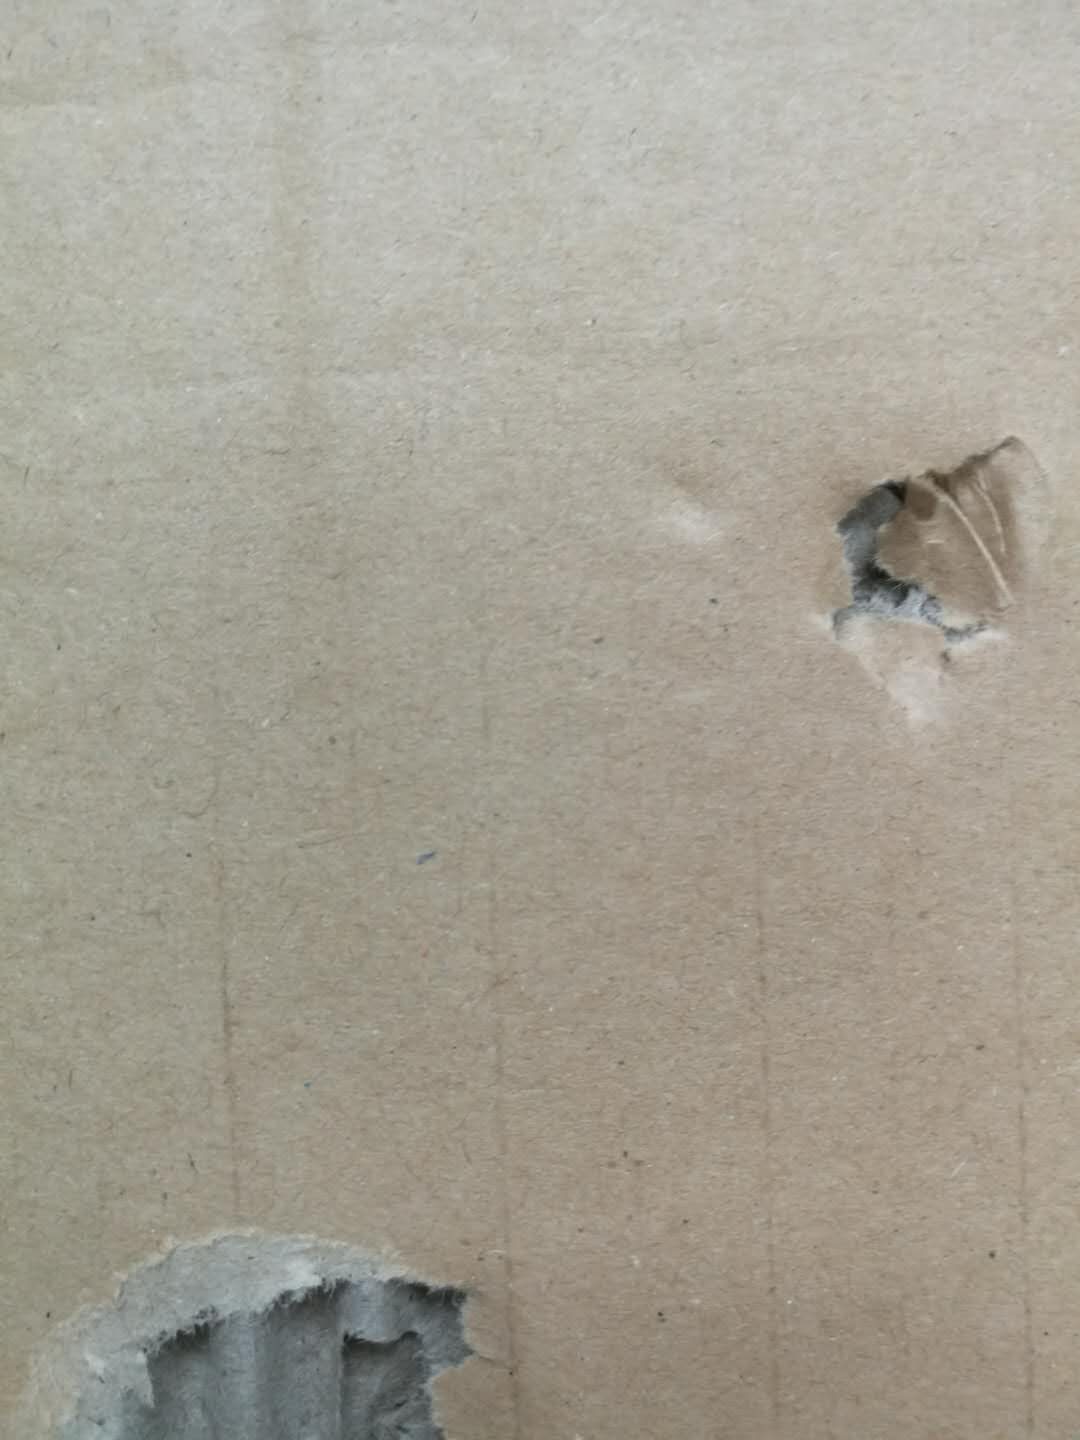defect: (6, 1176, 554, 1438), (800, 408, 1080, 766), (615, 418, 759, 548)
